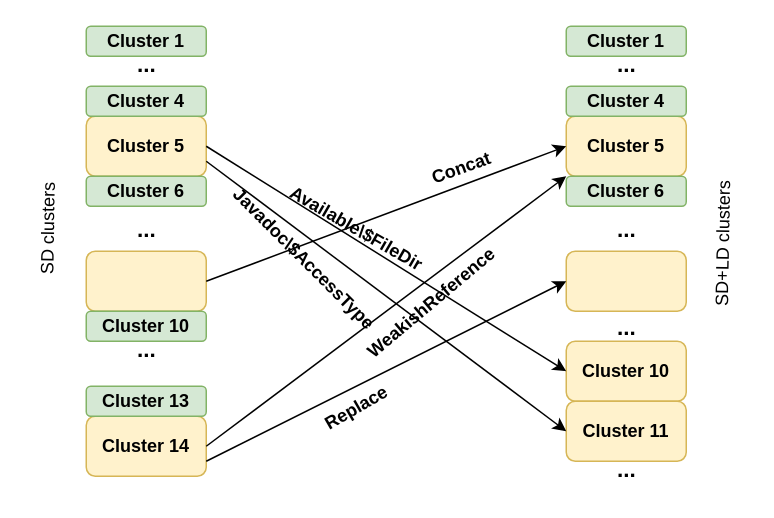
This 774x518 diagram has some shape labels left out. The centre of each missing label's shape, as x and y in pixels:
Cluster 8: (x=625, y=280)
Cluster 9: (x=145, y=280)
